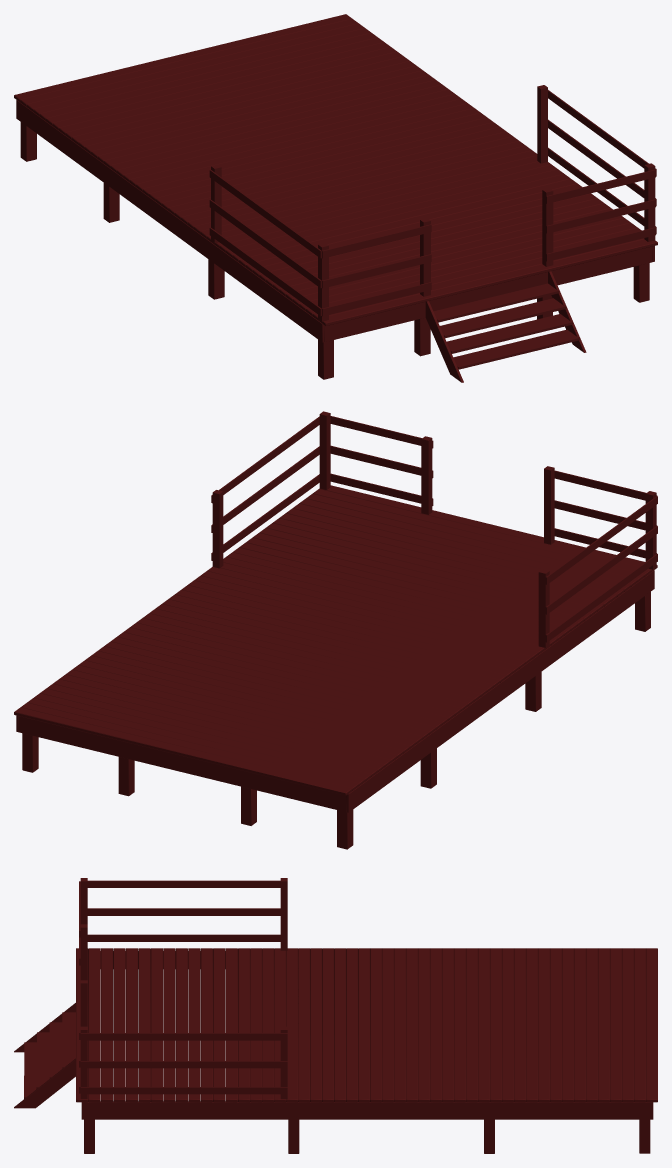
Rendered from FairyTale220.gltf.
The picture shows the model from 3 angles, top to bottom: view 1: azimuth 30°, elevation 25°; view 2: azimuth 150°, elevation 25°; view 3: azimuth 270°, elevation 25°; orthographic projection. The views are drawn at different scales.
Visible parts, largest first — view 1: HouseAFrame_WoodDark001; view 2: HouseAFrame_WoodDark001; view 3: HouseAFrame_WoodDark001.
Part boxes in pixels (x1,y1,x2,y2): HouseAFrame_WoodDark001: (14,14,657,382); HouseAFrame_WoodDark001: (14,411,657,849); HouseAFrame_WoodDark001: (14,878,657,1153).
Bounding box in the file's own units: 4.79 × 1.84 × 8.53.
